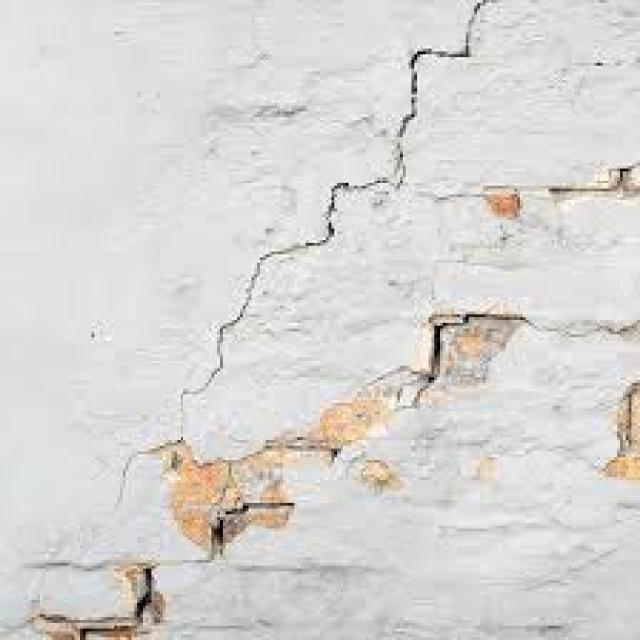Crack: (108, 0, 483, 506), (32, 494, 288, 637), (411, 306, 526, 400), (540, 157, 637, 200), (529, 320, 637, 337)
